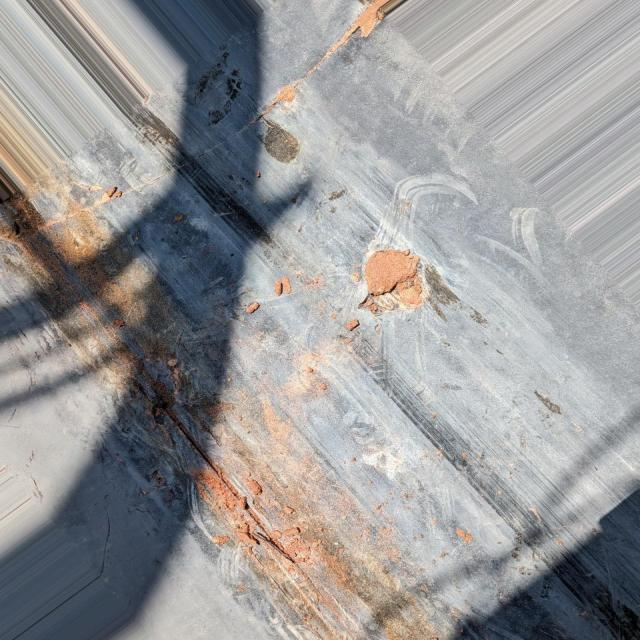Wear: (4, 212, 456, 640)
